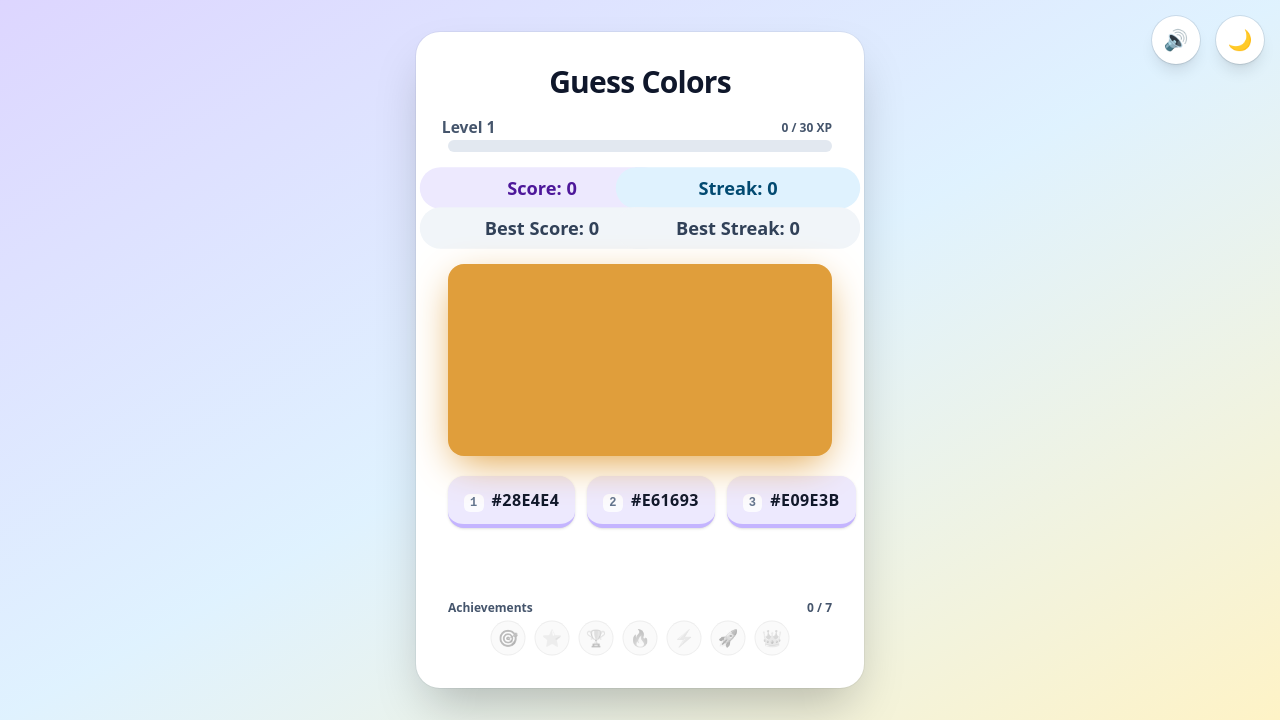
Test: increments score and streak across consecutive correct answers
What coordinates should you click on to do the following:
click the button "3#E09E3B"
I would click on:
 (791, 502)
Its box is x1=727 y1=476 x2=856 y2=528.
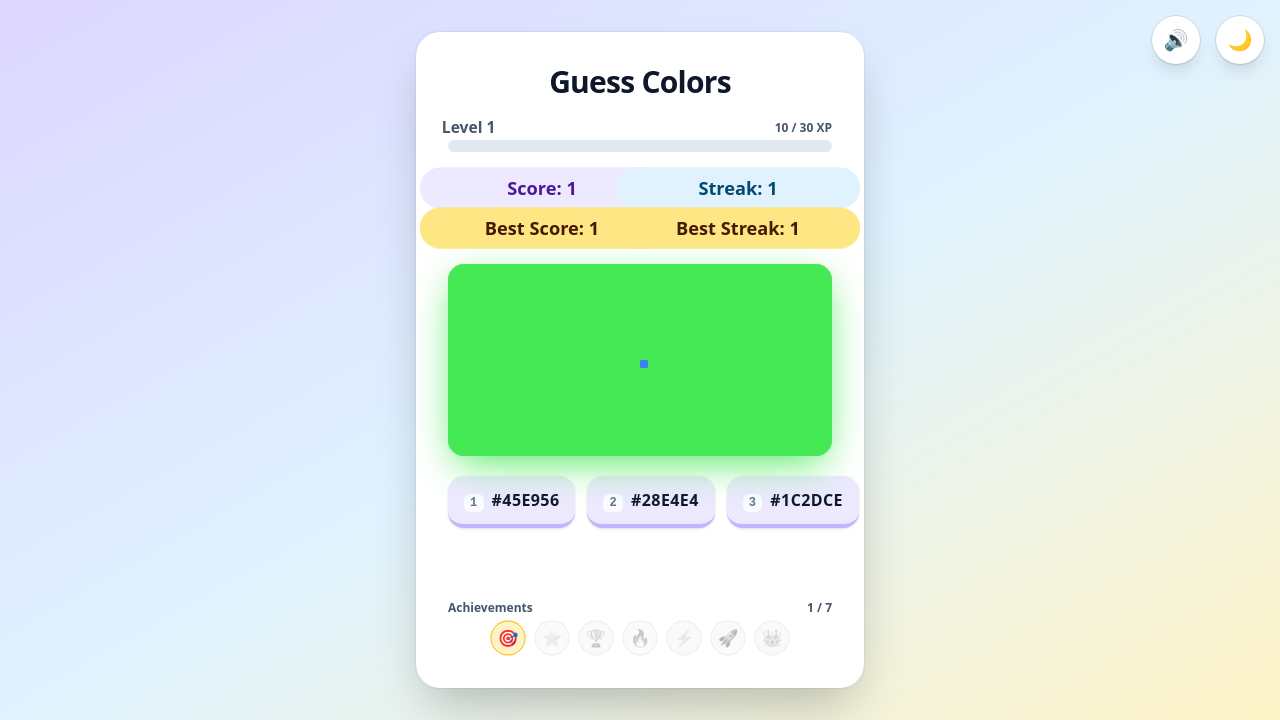
Expected: the text "Score: 1" is shown, x1=420 y1=167 x2=664 y2=209
Expected: the text "Streak: 1" is shown, x1=616 y1=167 x2=860 y2=209
What coordinates should you click on to do the following:
click the button "1#45E956"
I would click on:
 (512, 502)
Its box is x1=448 y1=476 x2=576 y2=528.
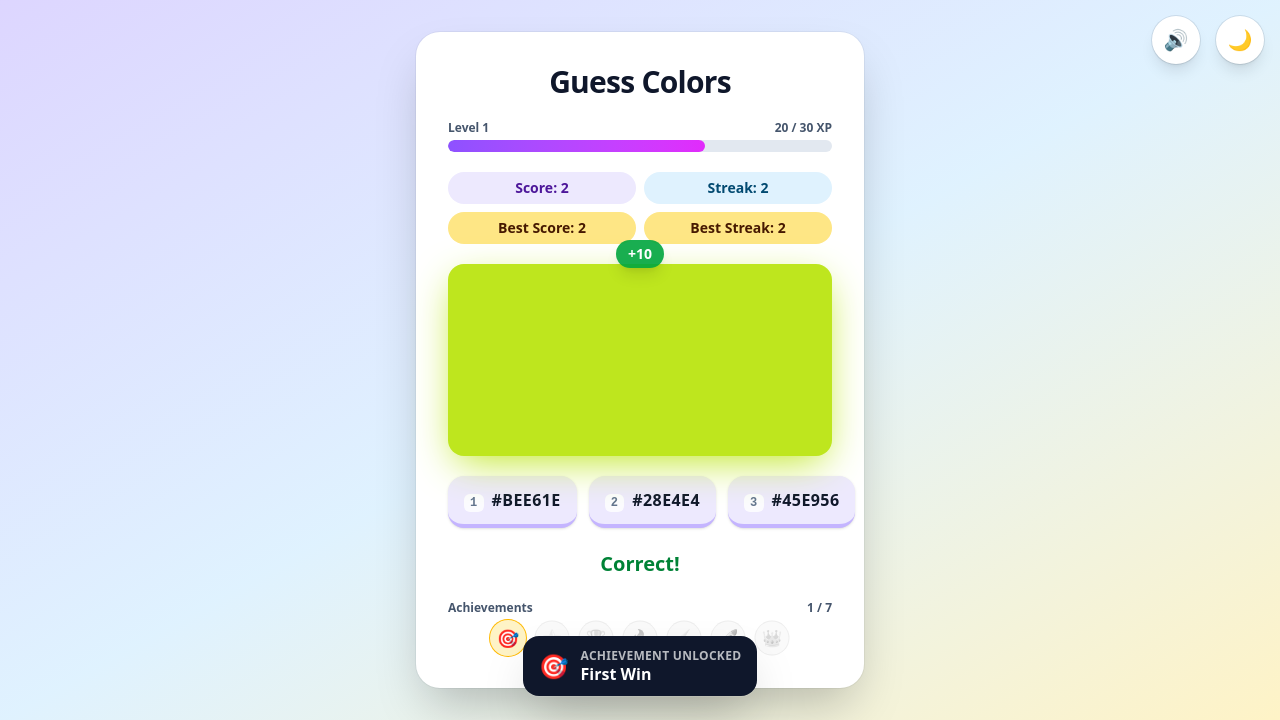
Expected: the text "Score: 2" is shown, x1=448 y1=172 x2=636 y2=204
Expected: the text "Streak: 2" is shown, x1=644 y1=172 x2=832 y2=204
